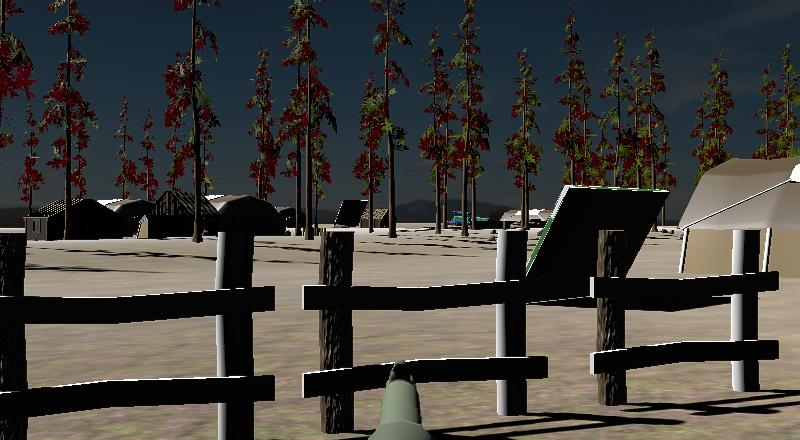House: (147, 189, 217, 238), (359, 206, 398, 228)
car: (450, 214, 494, 230)
